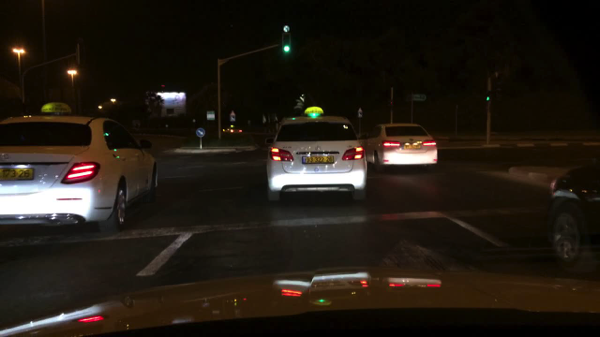car: (0, 103, 157, 236), (264, 105, 369, 202), (547, 160, 599, 271), (362, 121, 438, 171), (223, 128, 242, 133)
traffic light: (282, 33, 291, 53), (485, 91, 490, 109), (389, 99, 392, 108)
traffic sign: (413, 94, 425, 101), (206, 112, 215, 121), (196, 128, 205, 137), (229, 111, 235, 122), (357, 108, 362, 119), (284, 25, 289, 32)
